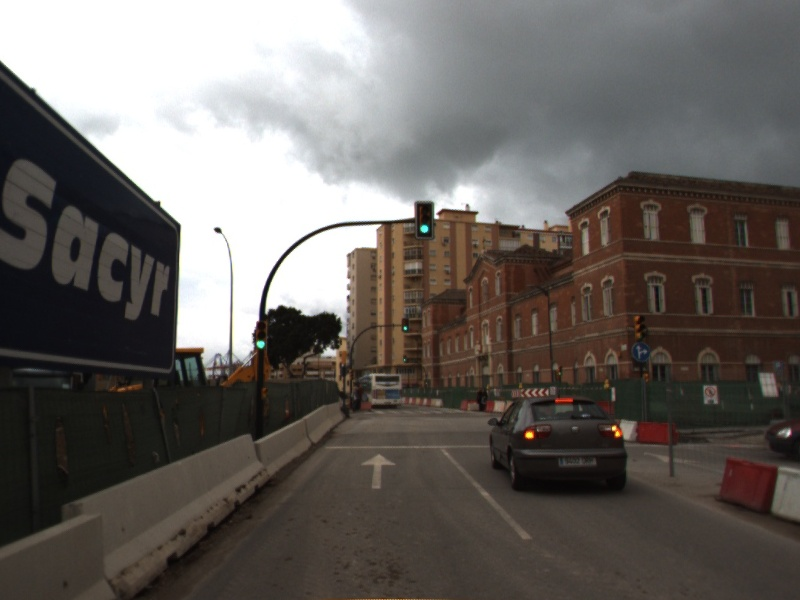STRAIGHT: (359, 451, 398, 491)
